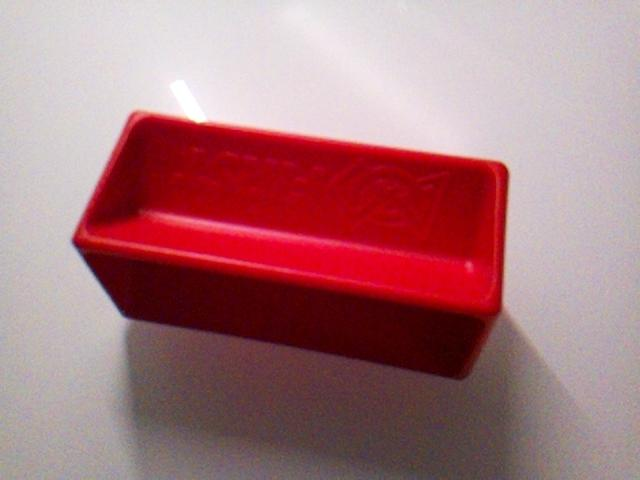red: (71, 107, 511, 380)
